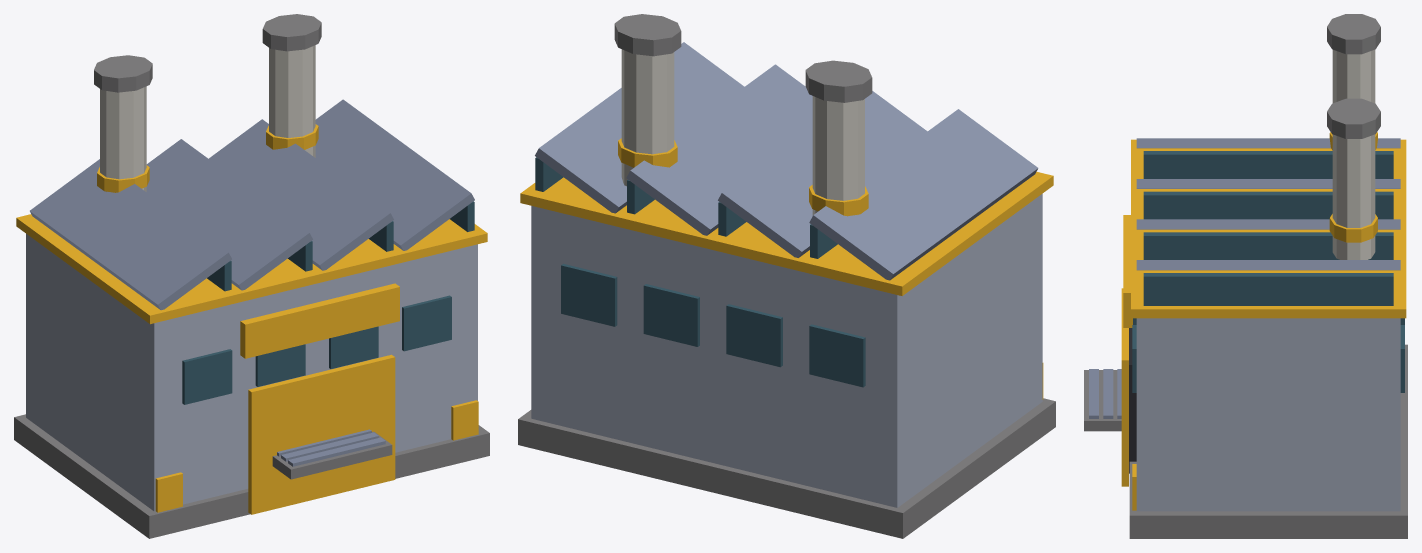
File: factory.glb
3 renders of one model, left to right at view 1: azimuth 30°, elevation 25°; view 2: azimuth 150°, elevation 25°; view 3: azimuth 270°, elevation 25°, orthographic. The views are drawn at different scales.
Visible parts, largest first — view 1: factory; view 2: factory; view 3: factory.
Boxes of the visible parts, <box> form: factory: <box>14,14,489,538</box>; factory: <box>518,14,1055,538</box>; factory: <box>1084,14,1407,538</box>.
Size of the model in its own units: 2.5 by 2.61 by 2.
